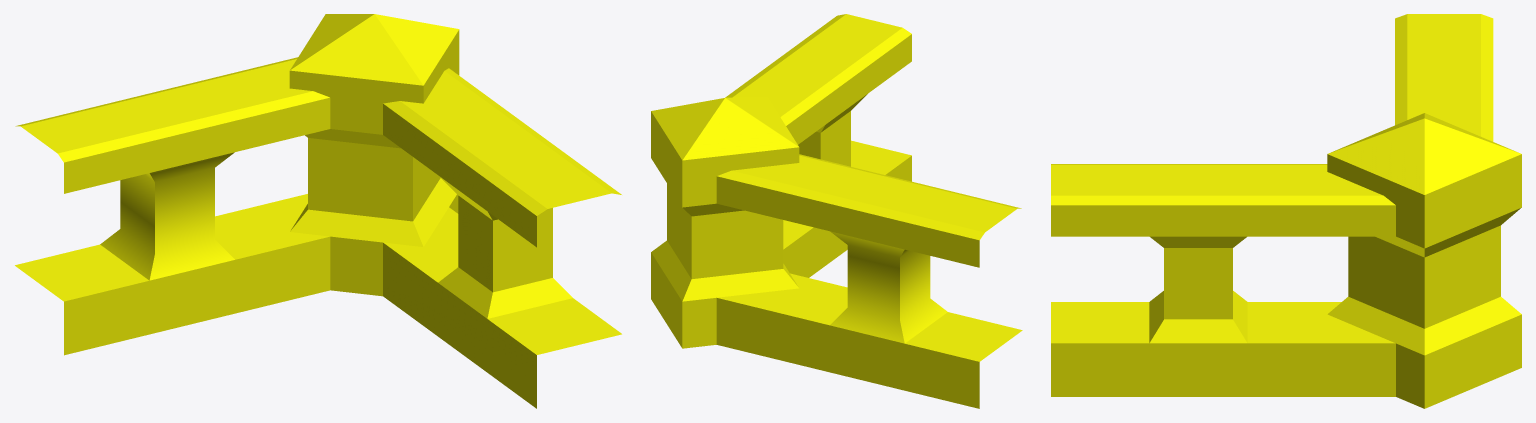
File: kaykit-barrier-corner.glb
The picture shows the model from 3 angles, left to right: view 1: azimuth 30°, elevation 25°; view 2: azimuth 150°, elevation 25°; view 3: azimuth 270°, elevation 25°; orthographic projection. The views are drawn at different scales.
Visible parts, largest first — view 1: barrier_corner; view 2: barrier_corner; view 3: barrier_corner.
Part boxes in pixels (bbox=[...]): barrier_corner: bbox=[15, 14, 621, 408]; barrier_corner: bbox=[651, 14, 1022, 408]; barrier_corner: bbox=[1051, 14, 1521, 408].
Bounding box in the file's own units: 2.39 × 1.4 × 2.39.
